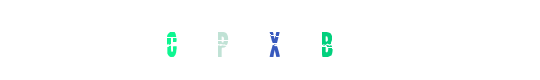B: (234, 0, 314, 80)
C: (195, 0, 275, 80)
P: (220, 0, 300, 80)
X: (230, 0, 310, 80)
